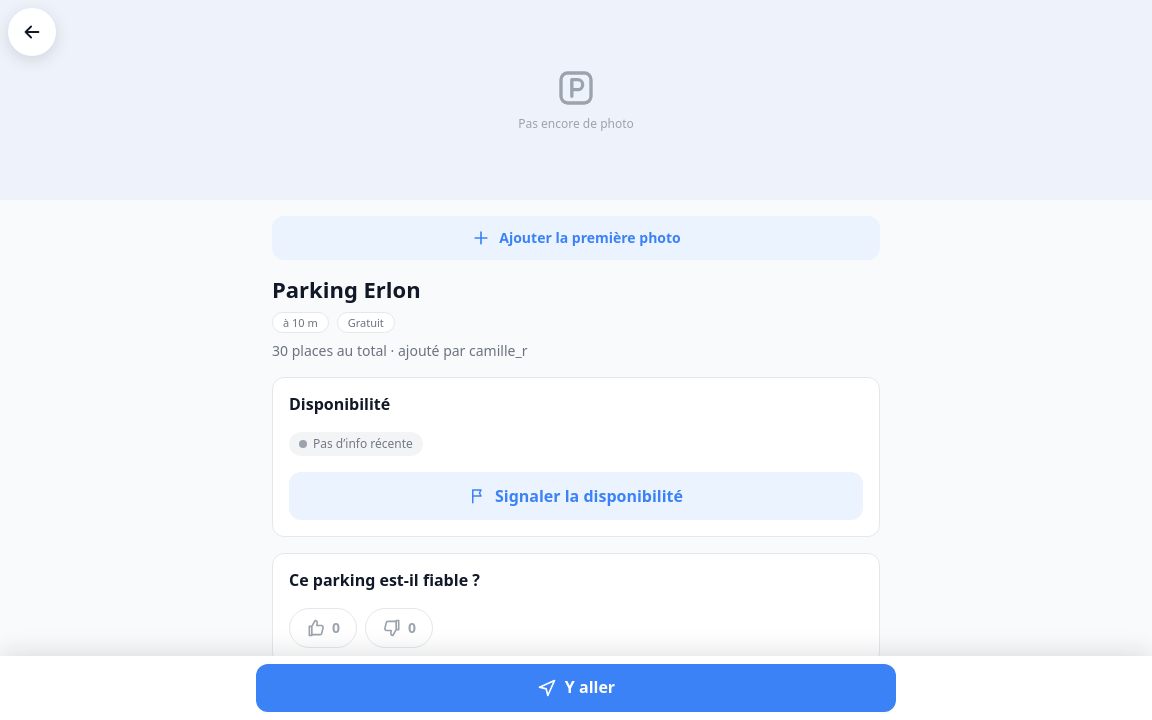
Test: ParkingDetailsPage (vrais use cases, store en mémoire) › signale le parking plein depuis la feuille du bas
Click the button "Signaler la disponibilité".
click(576, 496)  # box [289,472,863,520]
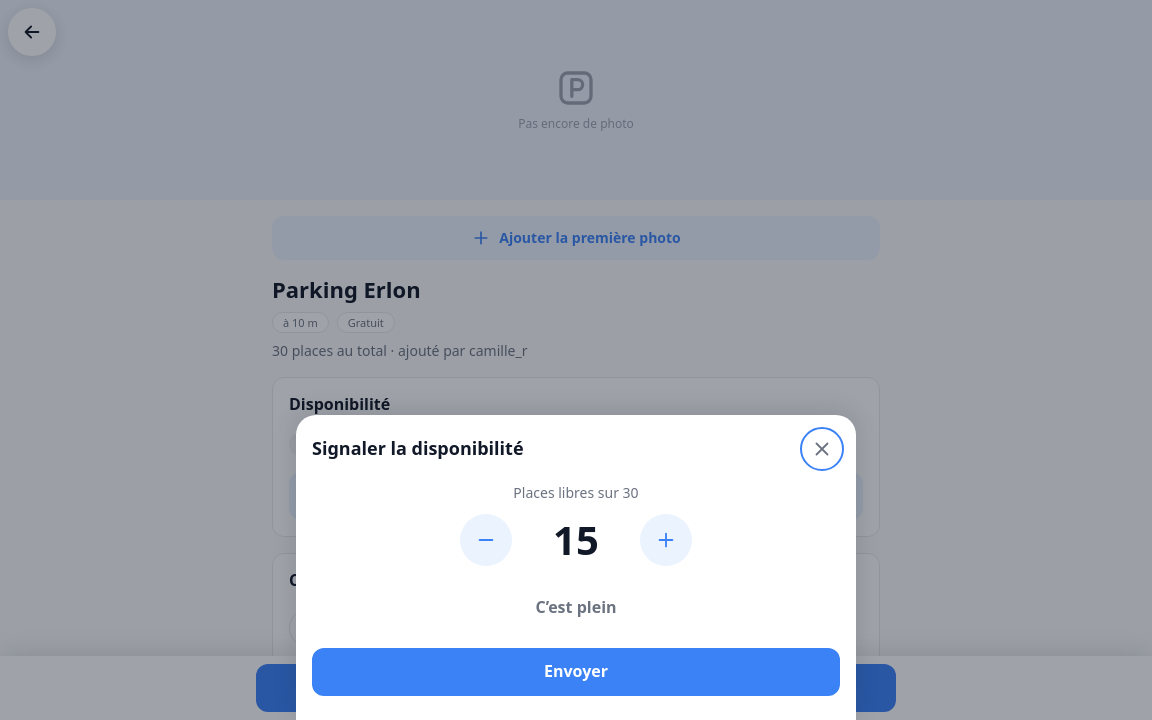
Click the button "C’est plein".
click(576, 608)  # box [512,584,641,632]
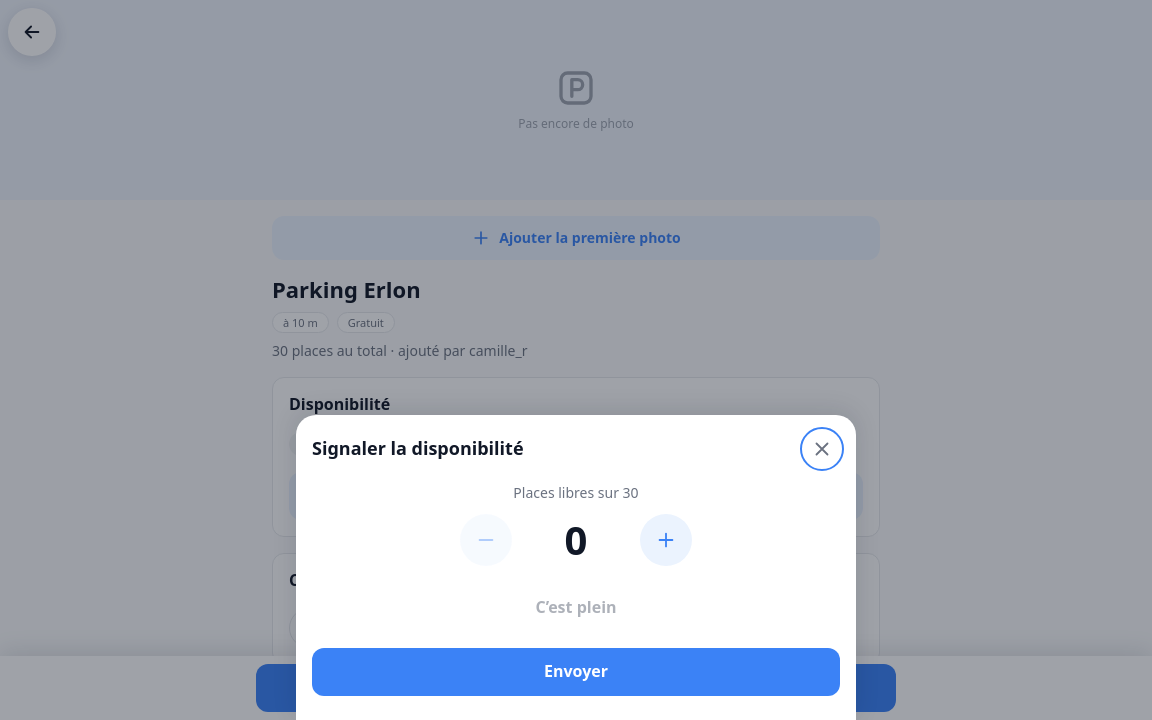
Click the button "Envoyer".
click(576, 672)  # box [312,648,840,696]
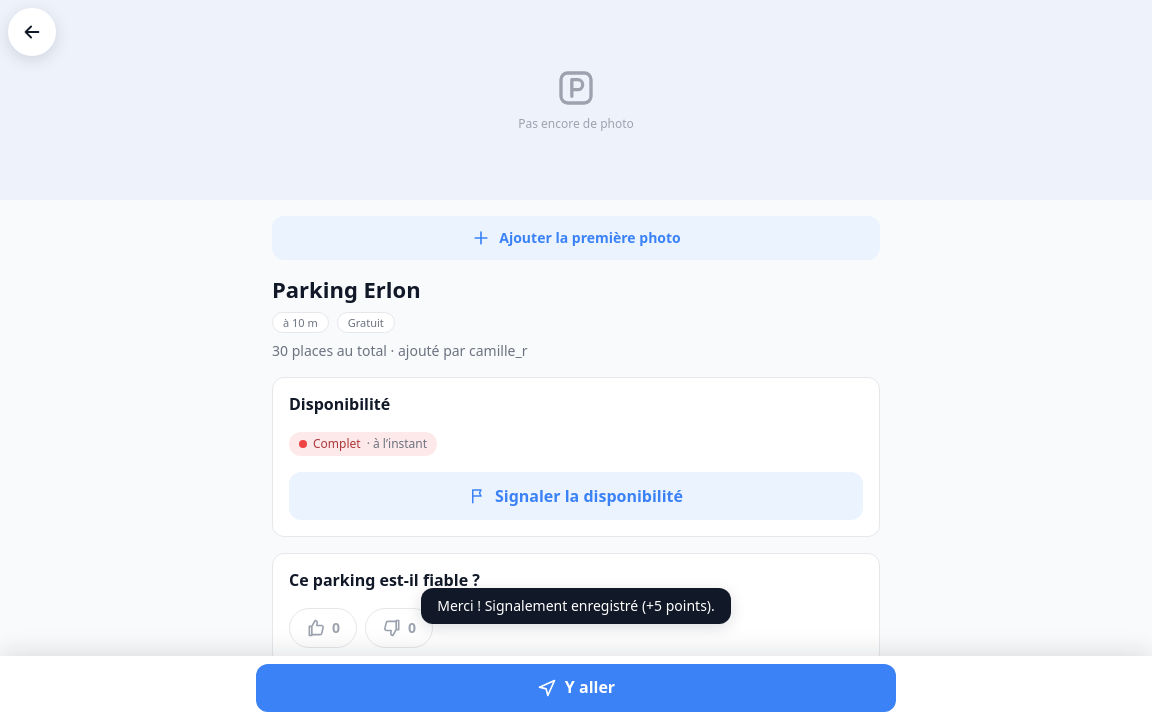
Result: the text "Complet" is shown at [313,435,361,452]
Result: the text "Merci ! Signalement enregistré (+5 points)." is shown at [421,588,731,624]
